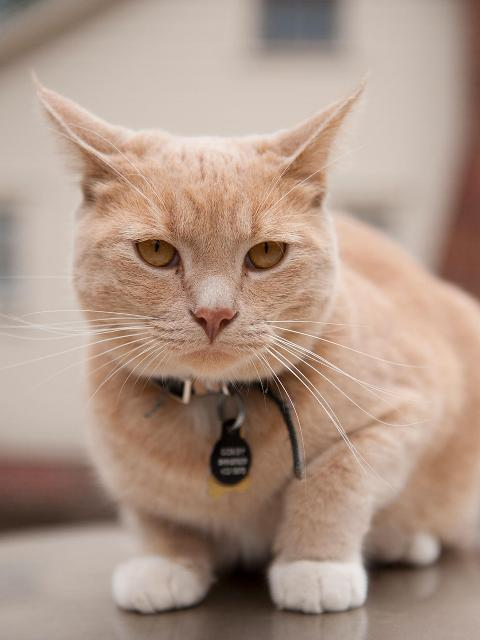cat: (32, 81, 480, 614)
